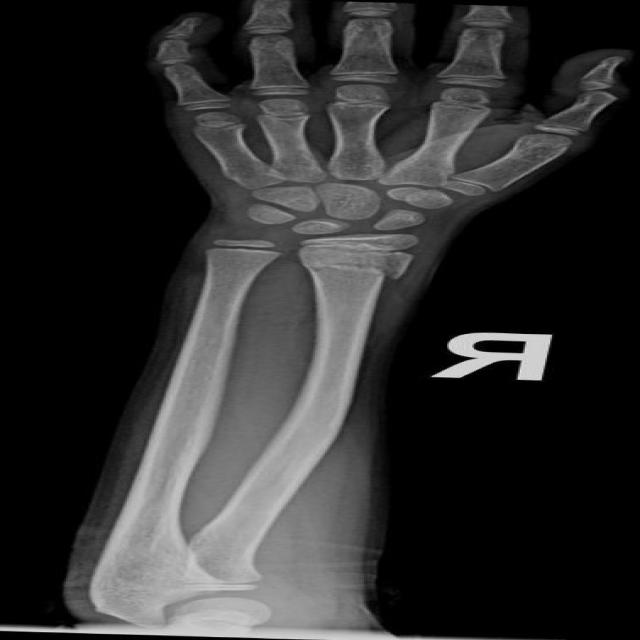Transverse Displaced: (288, 254, 438, 295)
